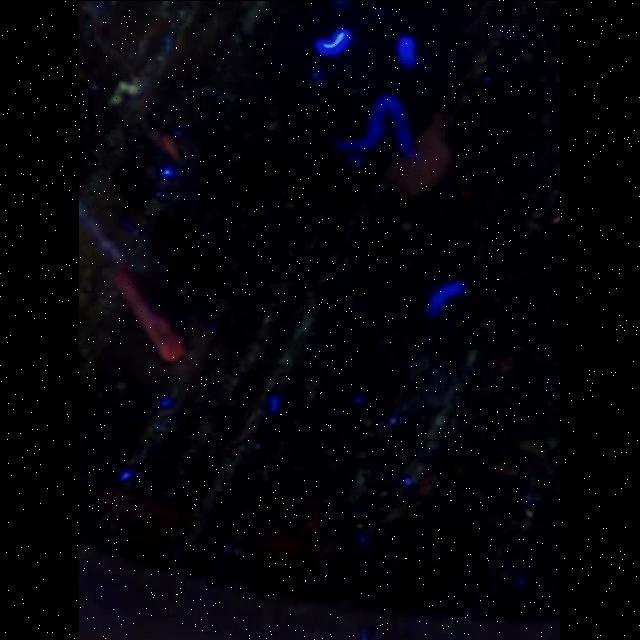Fibre: (108, 78, 142, 104)
